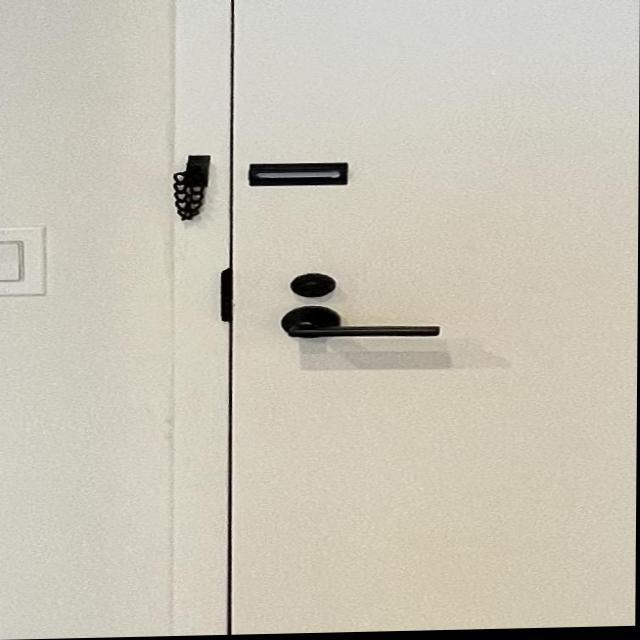door_handle: (274, 300, 452, 348)
